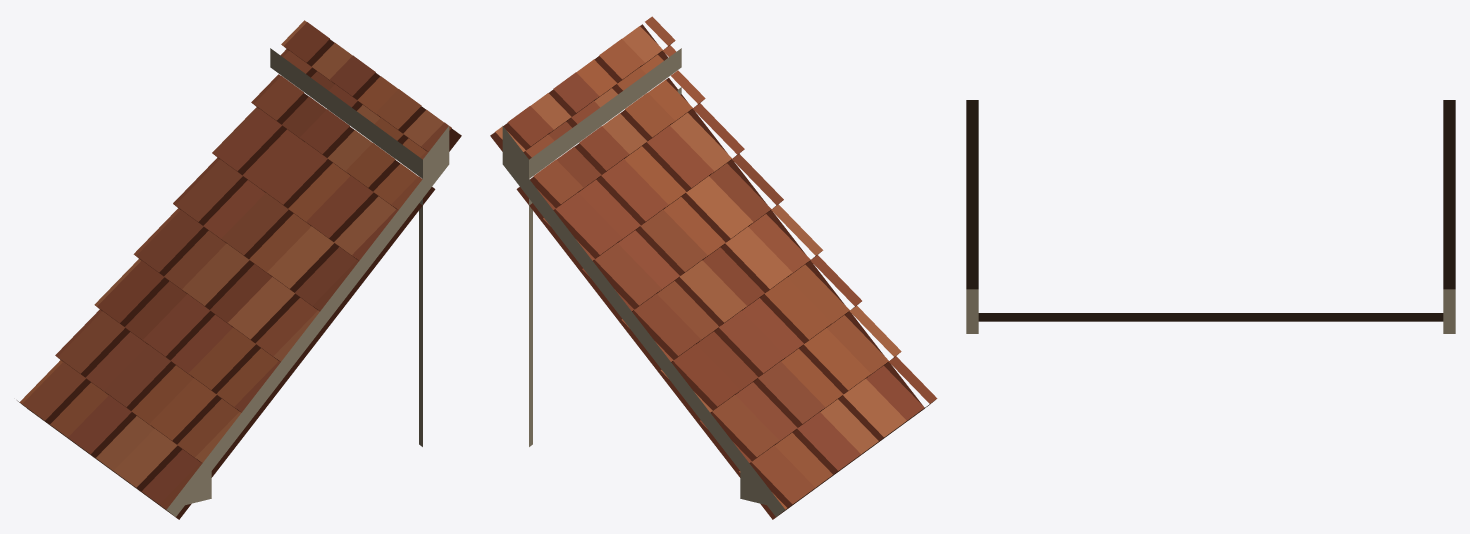
File: roof-high-tile.glb
3 views of the same model, side by side, from view 1: azimuth 30°, elevation 25°; view 2: azimuth 150°, elevation 25°; view 3: azimuth 270°, elevation 25° (orthographic). The views are drawn at different scales.
Visible parts, largest first — view 1: roof-high-tile; view 2: roof-high-tile; view 3: roof-high-tile.
Part boxes in pixels (x1,y1,x2,y2): roof-high-tile: (17, 20, 461, 519); roof-high-tile: (490, 16, 937, 519); roof-high-tile: (966, 100, 1455, 333).
Bounding box in the file's own units: 1.12 × 1.19 × 1.
